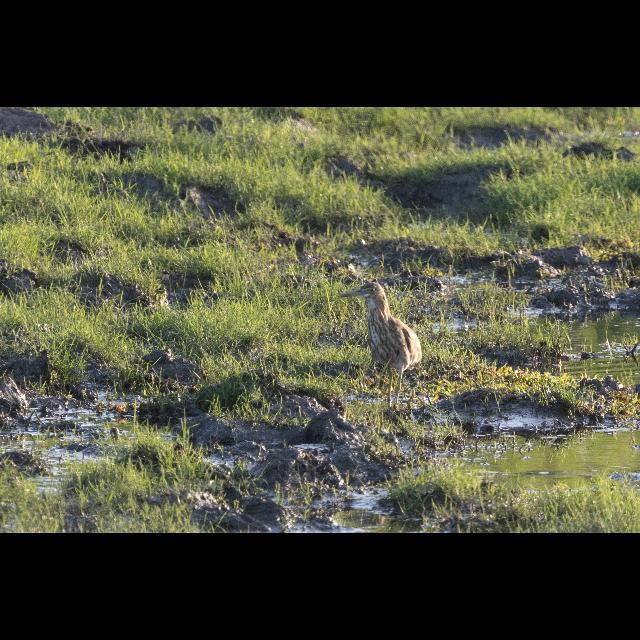heron: (336, 280, 422, 408)
